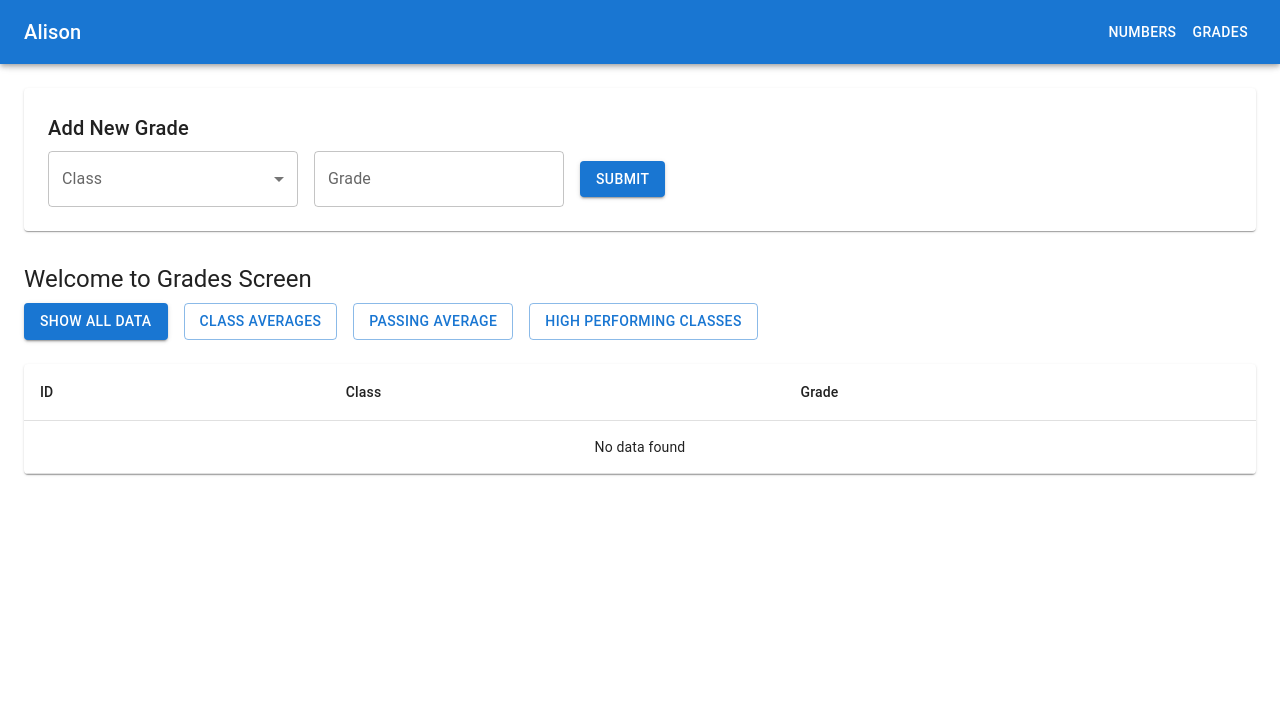
Test: Grades Page › shows error when submitting with empty fields
Step 1. Click the button "Submit" → (623, 179), box 580,161 -> 665,197
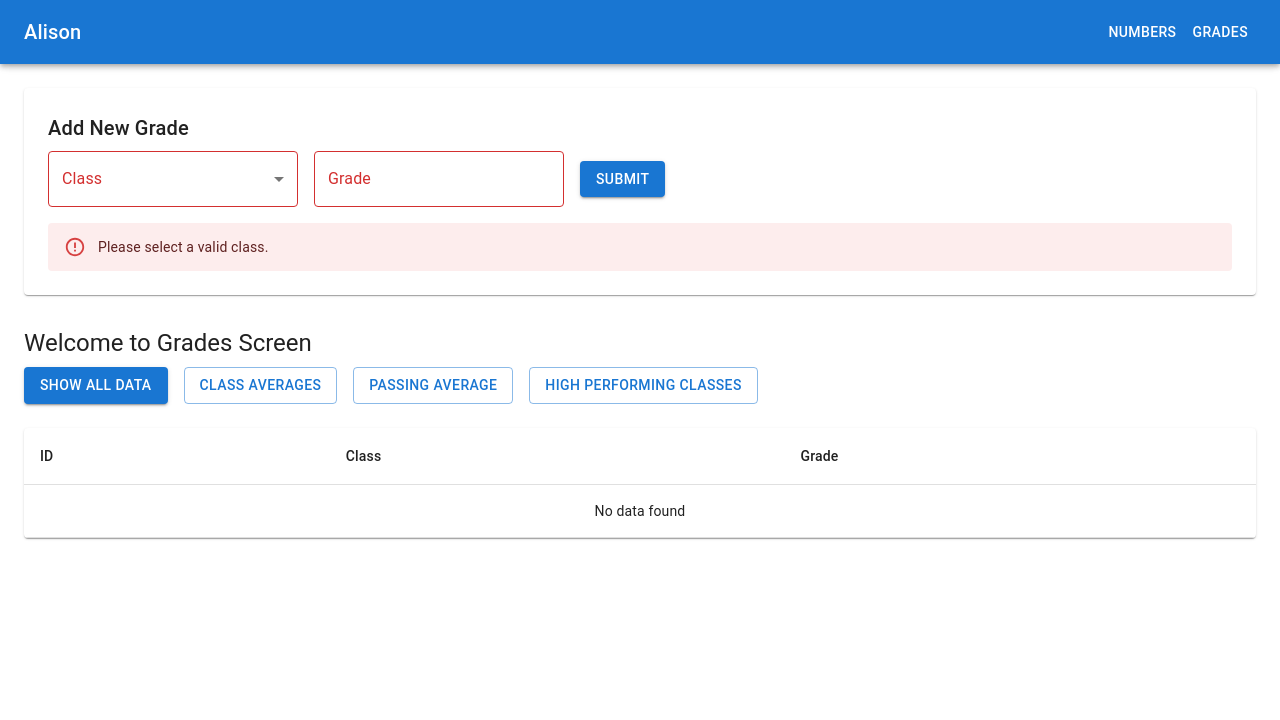
Expected: the text "Please select a valid class." is shown, 98,239 -> 268,255
